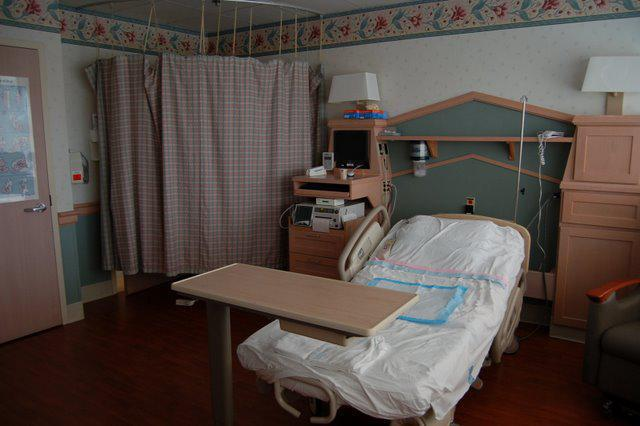Cama: (234, 212, 539, 407)
Puerta: (5, 39, 67, 336)
